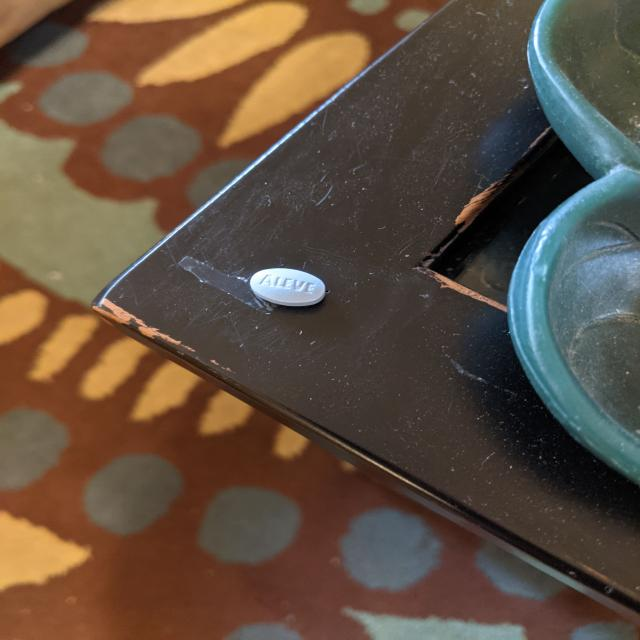non-organic waste: (250, 267, 328, 308)
